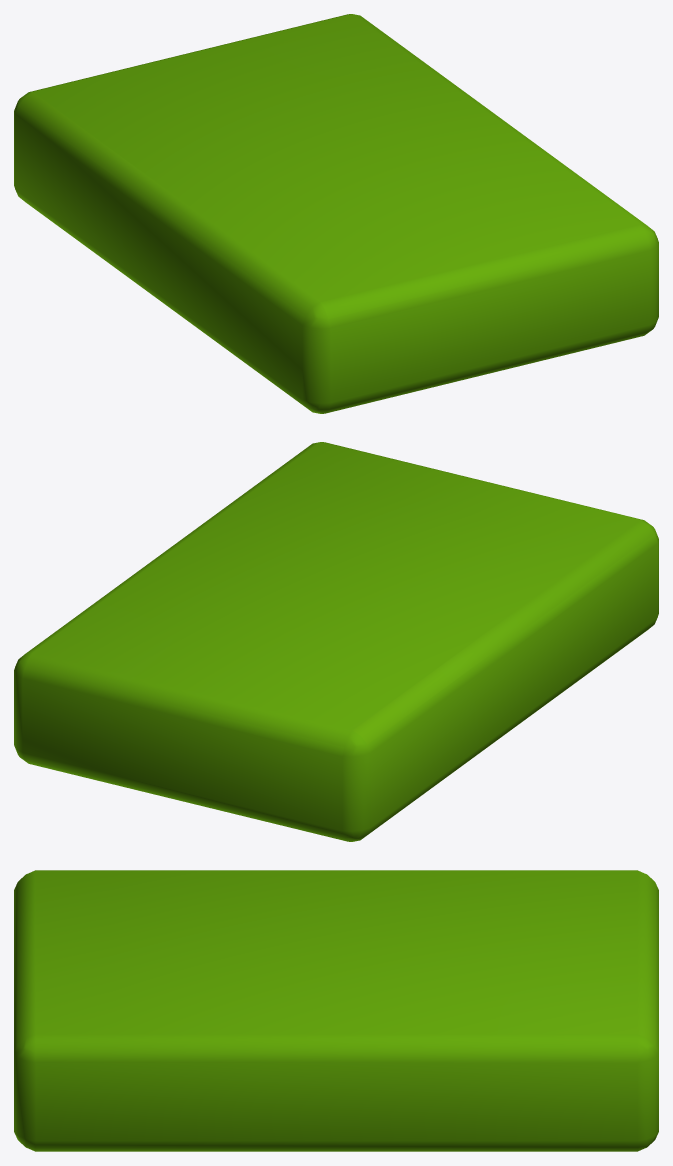
File: CuboidBlockGreen.fbx
The picture shows the model from 3 angles, top to bottom: view 1: azimuth 30°, elevation 25°; view 2: azimuth 150°, elevation 25°; view 3: azimuth 270°, elevation 25°; orthographic projection. The views are drawn at different scales.
Parts seen in each view (by area): view 1: CuboidBlock; view 2: CuboidBlock; view 3: CuboidBlock.
Boxes of the visible parts, x1=… form: CuboidBlock: x1=14, y1=14, x2=658, y2=413; CuboidBlock: x1=14, y1=442, x2=658, y2=841; CuboidBlock: x1=14, y1=870, x2=658, y2=1151.
Size of the model in its own units: 4 by 1.2 by 6.
